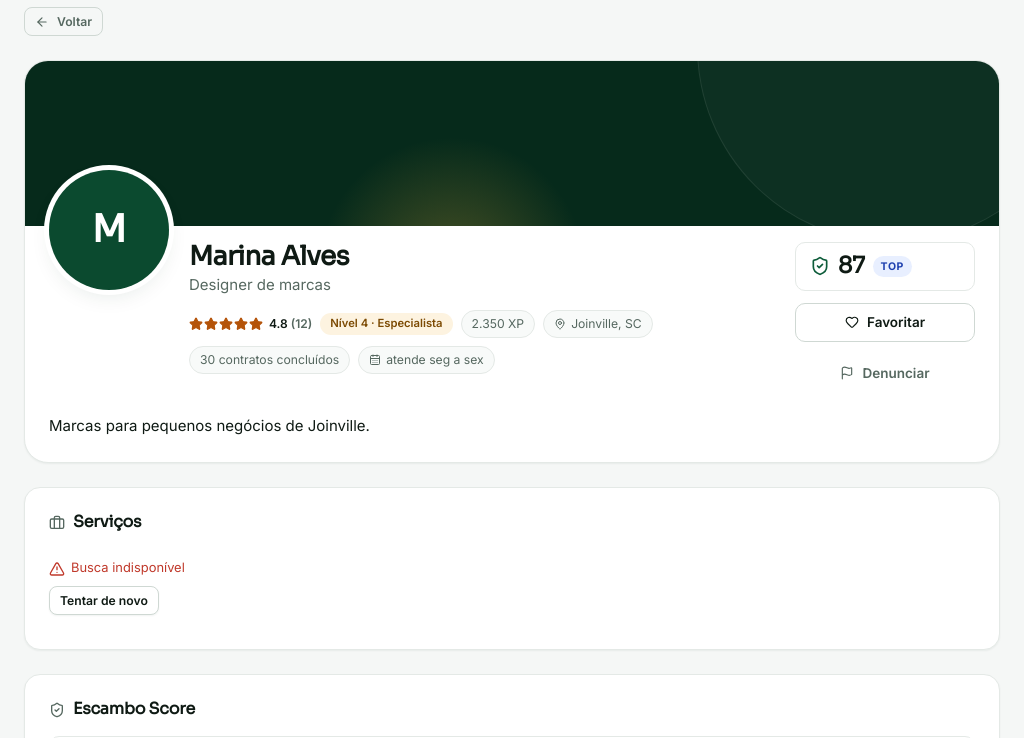
Test: FreelancerView: o que o visitante lê › serviços que não carregam: o erro fica no cartão e dá para tentar de novo
The image size is (1024, 738).
Expected: the message shows "Busca indisponível", [71, 560, 185, 575]
Expected: the heading "Marina Alves" is shown, [189, 240, 349, 273]
Click the button "Tentar de novo" at (104, 600), box [49, 586, 159, 615]
(page scrolled)
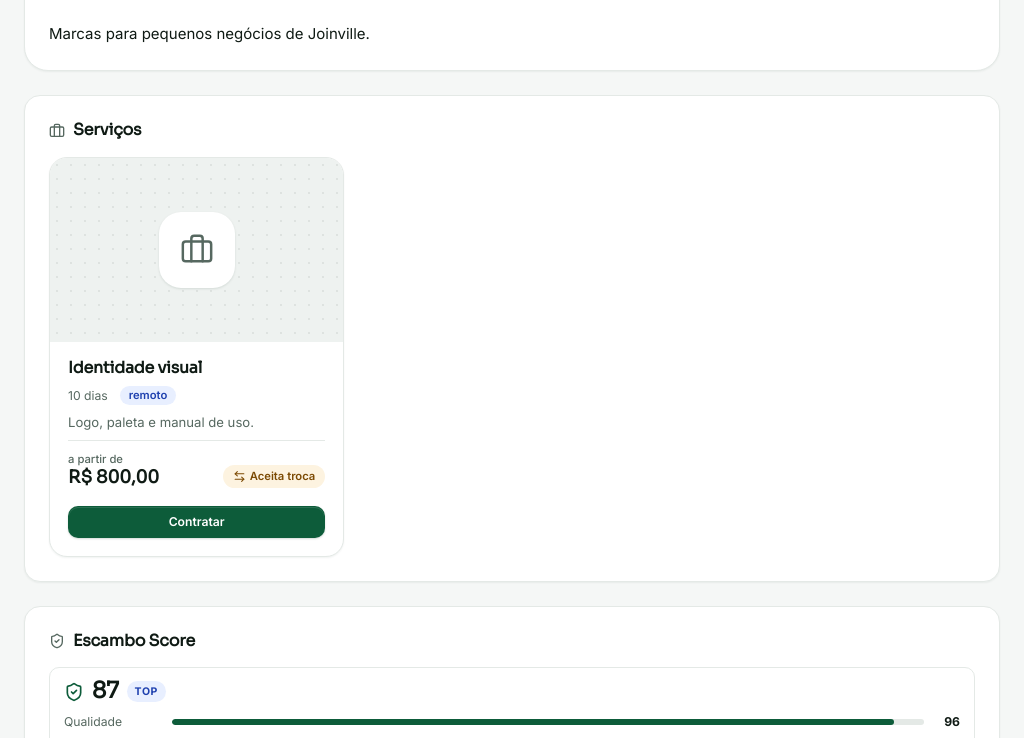
Result: the link "Identidade visual" is shown at [68, 358, 202, 378]
